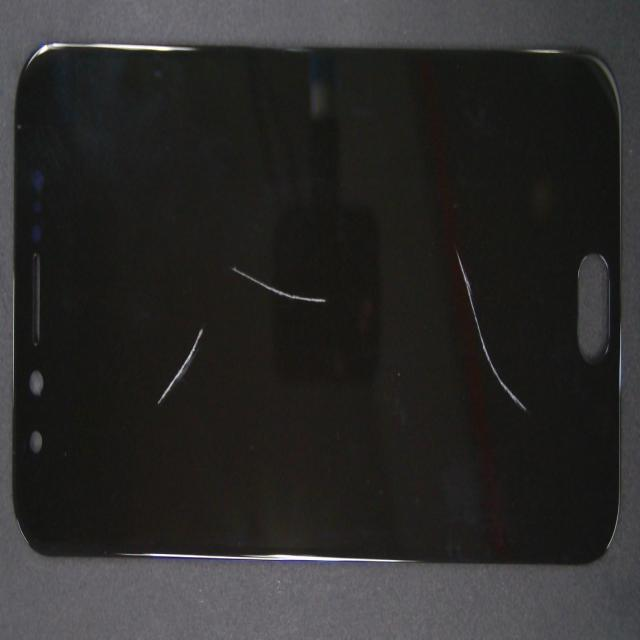scratch: (230, 259, 332, 322), (153, 309, 208, 419)
